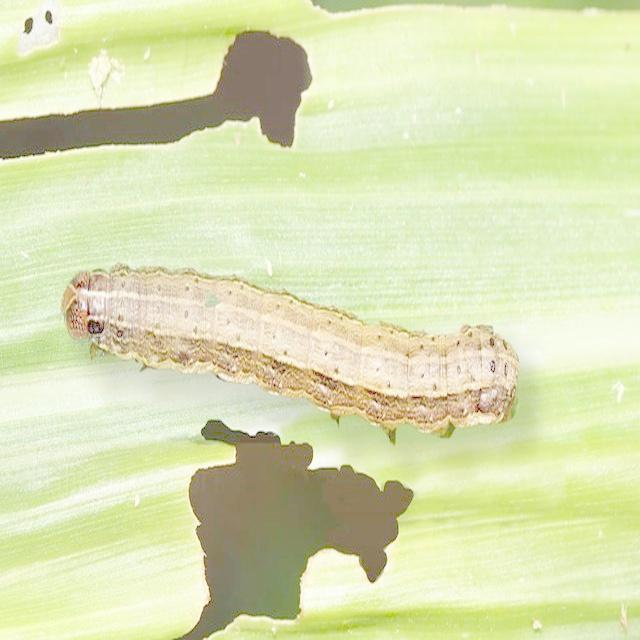gusano_cogollero: (64, 264, 516, 426)
